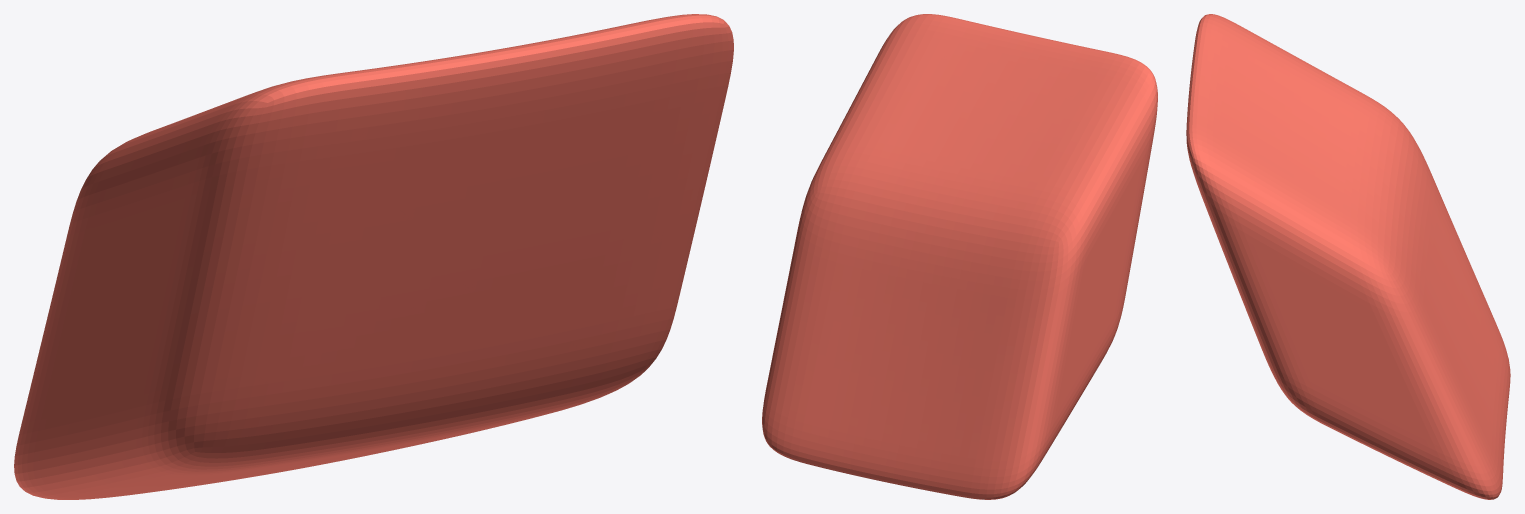
3 renders of one model, left to right at view 1: azimuth 30°, elevation 25°; view 2: azimuth 150°, elevation 25°; view 3: azimuth 270°, elevation 25°, orthographic. The views are drawn at different scales.
Visible parts, largest first — view 1: waves_1.030; view 2: waves_1.030; view 3: waves_1.030.
Part boxes in pixels (box(x1,y1,x2,y2)): waves_1.030: box(14, 14, 733, 499); waves_1.030: box(762, 14, 1157, 499); waves_1.030: box(1186, 14, 1510, 499).
Size of the model in its own units: 30.13 by 35.23 by 27.98.
